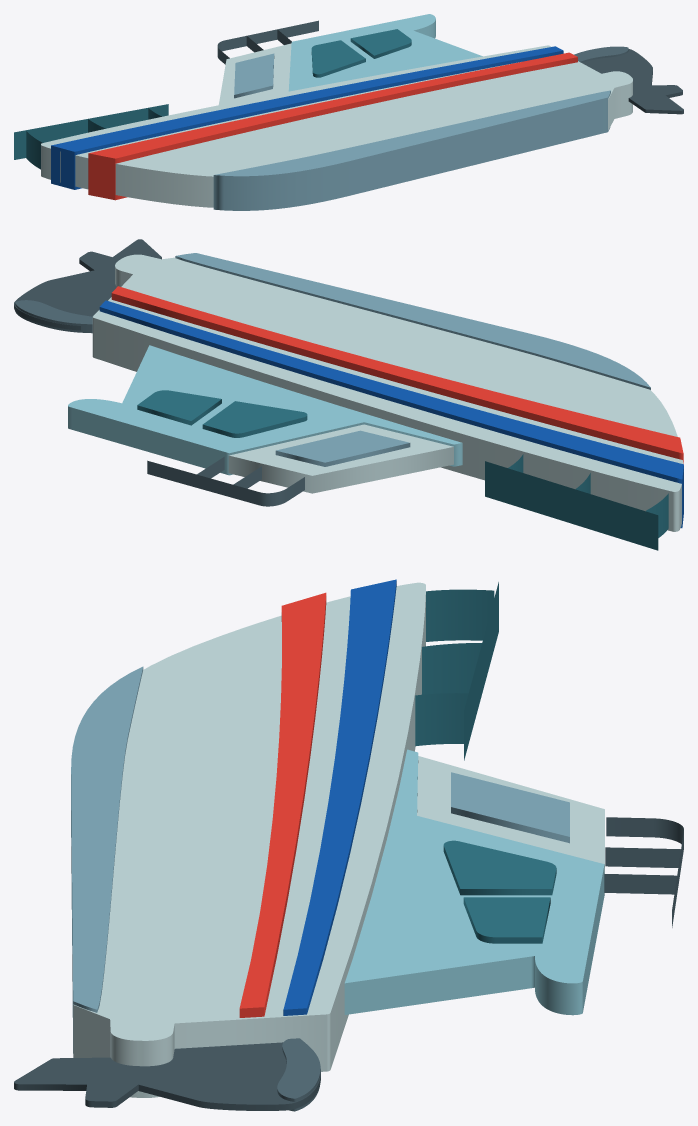
File: emoji_u1f6e5.glb
3 views of the same model, one above another, from view 1: azimuth 30°, elevation 25°; view 2: azimuth 150°, elevation 25°; view 3: azimuth 270°, elevation 25° (orthographic). The views are drawn at different scales.
Parts seen in each view (by area): view 1: emoji_u1f6e5; view 2: emoji_u1f6e5; view 3: emoji_u1f6e5.
Part boxes in pixels (x1,y1,x2,y2): emoji_u1f6e5: (14, 14, 683, 210); emoji_u1f6e5: (14, 239, 683, 550); emoji_u1f6e5: (14, 579, 683, 1111).
Size of the model in its own units: 0.0339 by 0.0024 by 0.0191.
